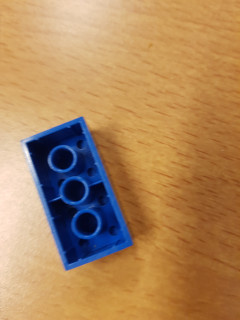2x4 blue: (17, 115, 140, 272)
